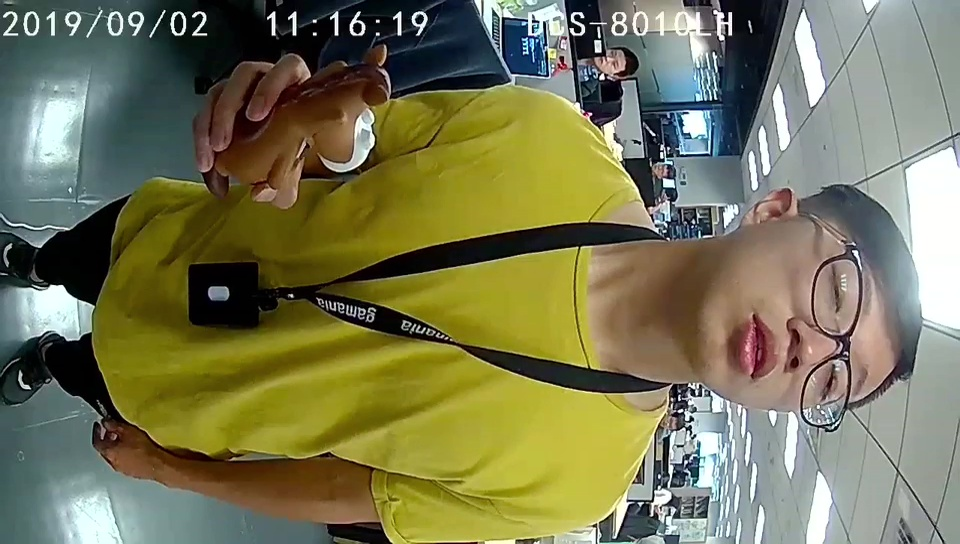horse: (294, 45, 392, 172)
